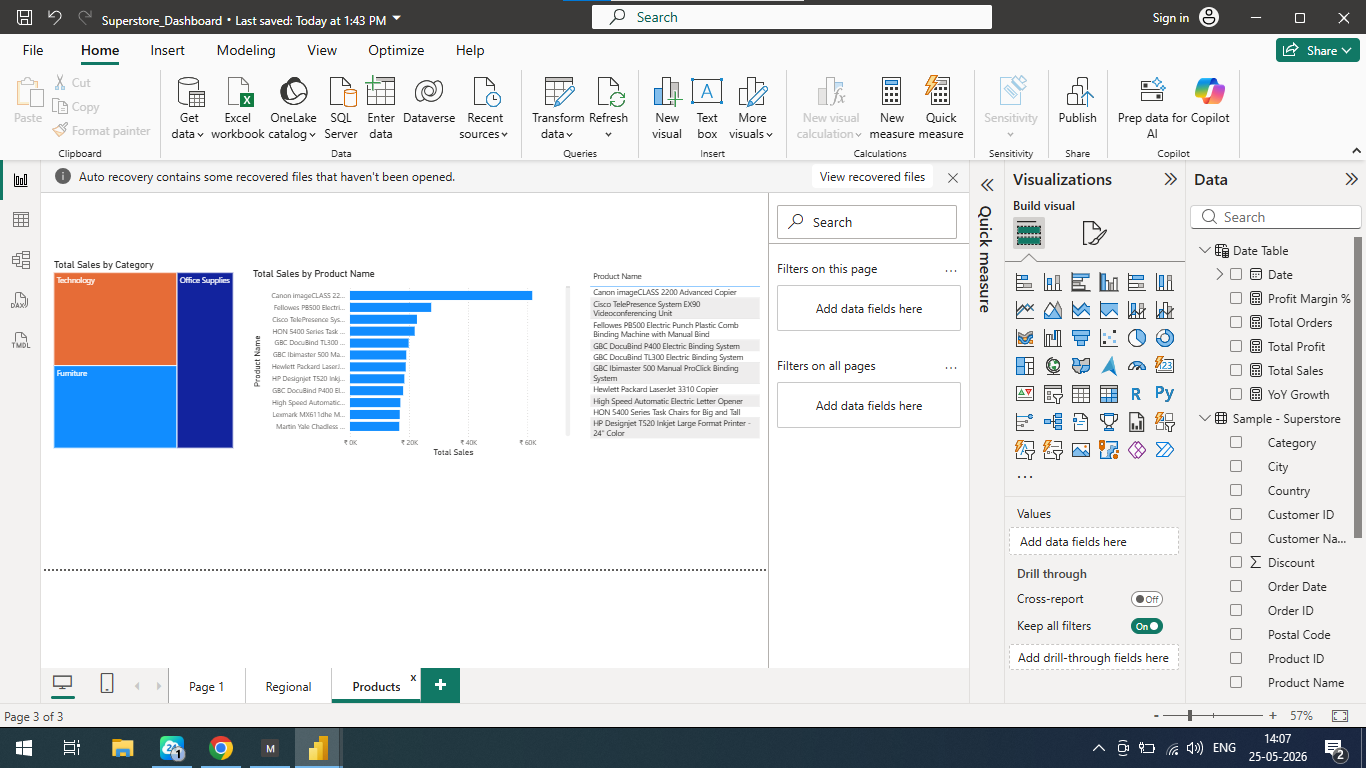

This screenshot's page, from the dashboard's own definition file:
{"tool":"powerbi","page":{"name":"Products","canvas":[1280,720],"ordinal":2},"visuals":[{"type":"treemap","fields":{"Group":["Sample - Superstore.Category"],"Values":["Date Table.Total Sales"]},"box":[17.6,174.3,325.7,338],"z":0},{"type":"barChart","fields":{"Category":["Sample - Superstore.Product Name"],"Y":["Date Table.Total Sales"]},"box":[368,190.2,568.7,338],"z":1},{"type":"tableEx","fields":{"Values":["Sample - Superstore.Product Name"]},"box":[961.3,190.2,318.7,338],"z":2}]}

Visuals, with their boxes on the page's 1280x720 design canvas (x1, y1, x2, y2). These are canvas units, not pixel positions in the 1366x768 screenshot, which may show the page scaled, cropped or inside an application window:
treemap - Sample - Superstore.Category x Date Table.Total Sales: select_region(18, 174, 343, 512)
barChart - Sample - Superstore.Product Name x Date Table.Total Sales: select_region(368, 190, 937, 528)
tableEx - Sample - Superstore.Product Name: select_region(961, 190, 1280, 528)
